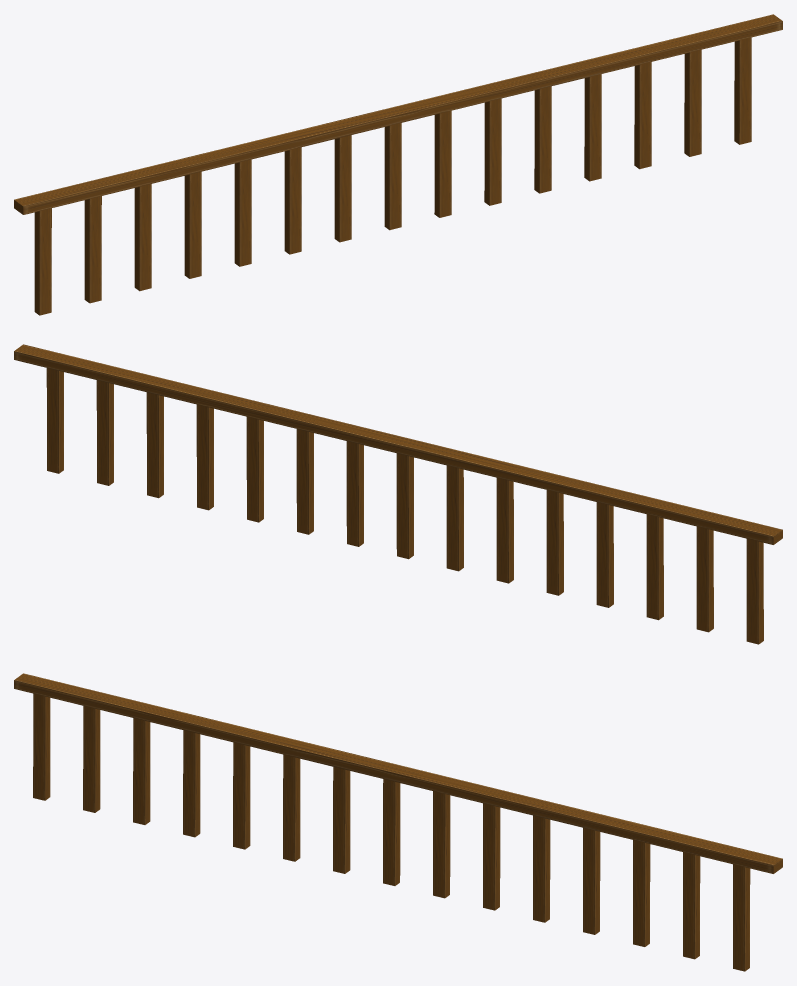
File: SM_Stairs_Interior_C_Handrails_Top_05.fbx
3 views of the same model, one above another, from view 1: azimuth 30°, elevation 25°; view 2: azimuth 150°, elevation 25°; view 3: azimuth 330°, elevation 25° (orthographic).
Visible parts, largest first — view 1: SM_Stairs_Interior_C_Handrails_Top_05; view 2: SM_Stairs_Interior_C_Handrails_Top_05; view 3: SM_Stairs_Interior_C_Handrails_Top_05.
Boxes of the visible parts, <box> form: SM_Stairs_Interior_C_Handrails_Top_05: <box>14,14,782,315</box>; SM_Stairs_Interior_C_Handrails_Top_05: <box>14,344,782,644</box>; SM_Stairs_Interior_C_Handrails_Top_05: <box>14,673,782,971</box>.
Bounding box in the file's own units: 6.37 × 0.9176 × 0.1362.
